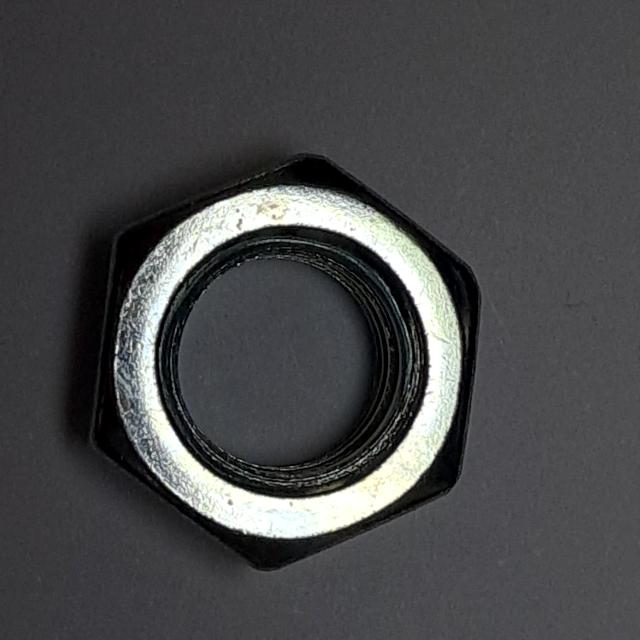Excellent: (74, 136, 502, 587)
